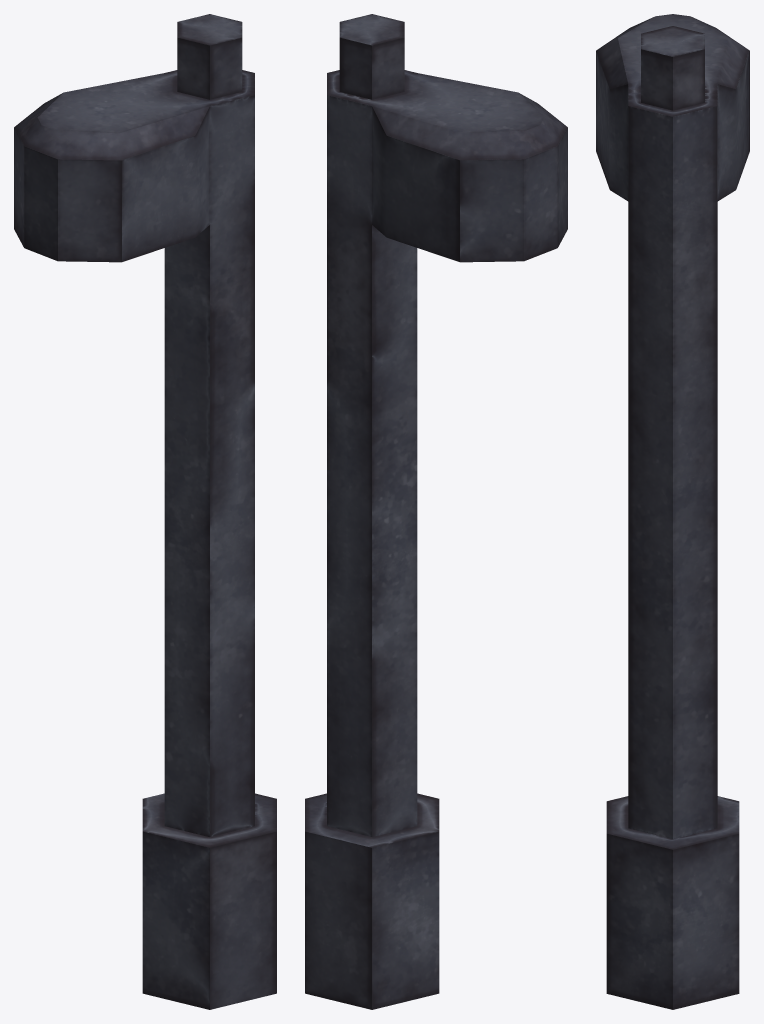
Rendered from Light.obj.
3 views of the same model, side by side, from view 1: azimuth 30°, elevation 25°; view 2: azimuth 150°, elevation 25°; view 3: azimuth 270°, elevation 25° (orthographic).
Parts seen in each view (by area): view 1: Pole; view 2: Pole; view 3: Pole.
Boxes of the visible parts, x1,y1,x2,y2 form: Pole: (14, 14, 276, 1009); Pole: (305, 14, 567, 1009); Pole: (596, 14, 749, 1009).
Bounding box in the file's own units: 1.12 × 4 × 0.5959.
Materials: 1 (1 with a texture image).
